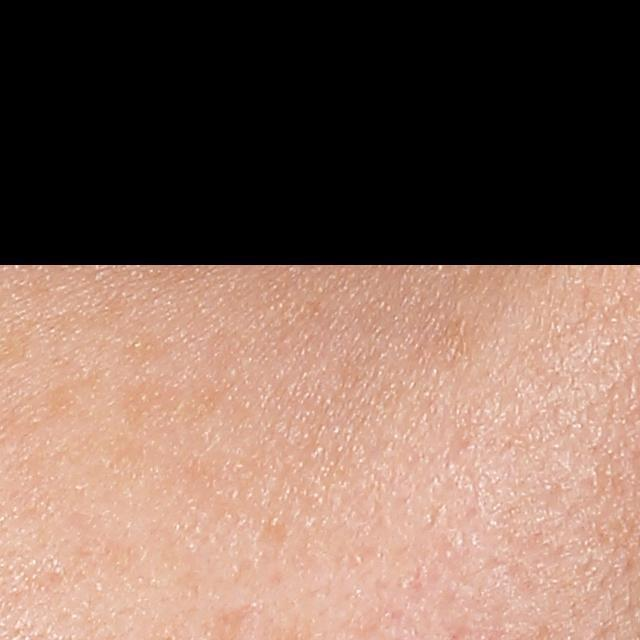melasma: (115, 330, 254, 439), (1, 365, 120, 441)
